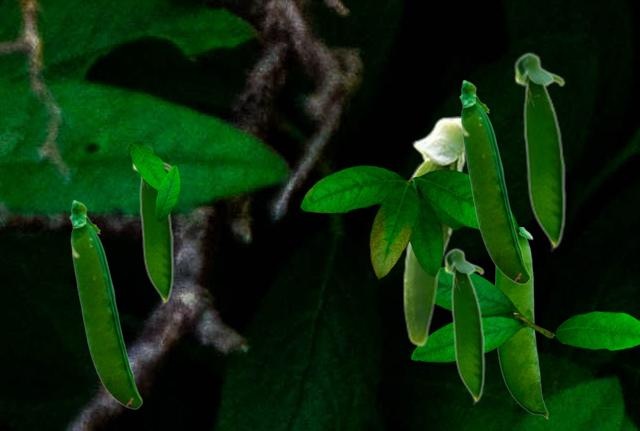pea: (69, 199, 141, 408), (402, 116, 466, 346), (459, 79, 529, 283), (513, 51, 565, 251), (495, 227, 547, 418), (132, 144, 173, 305), (443, 247, 484, 404)
